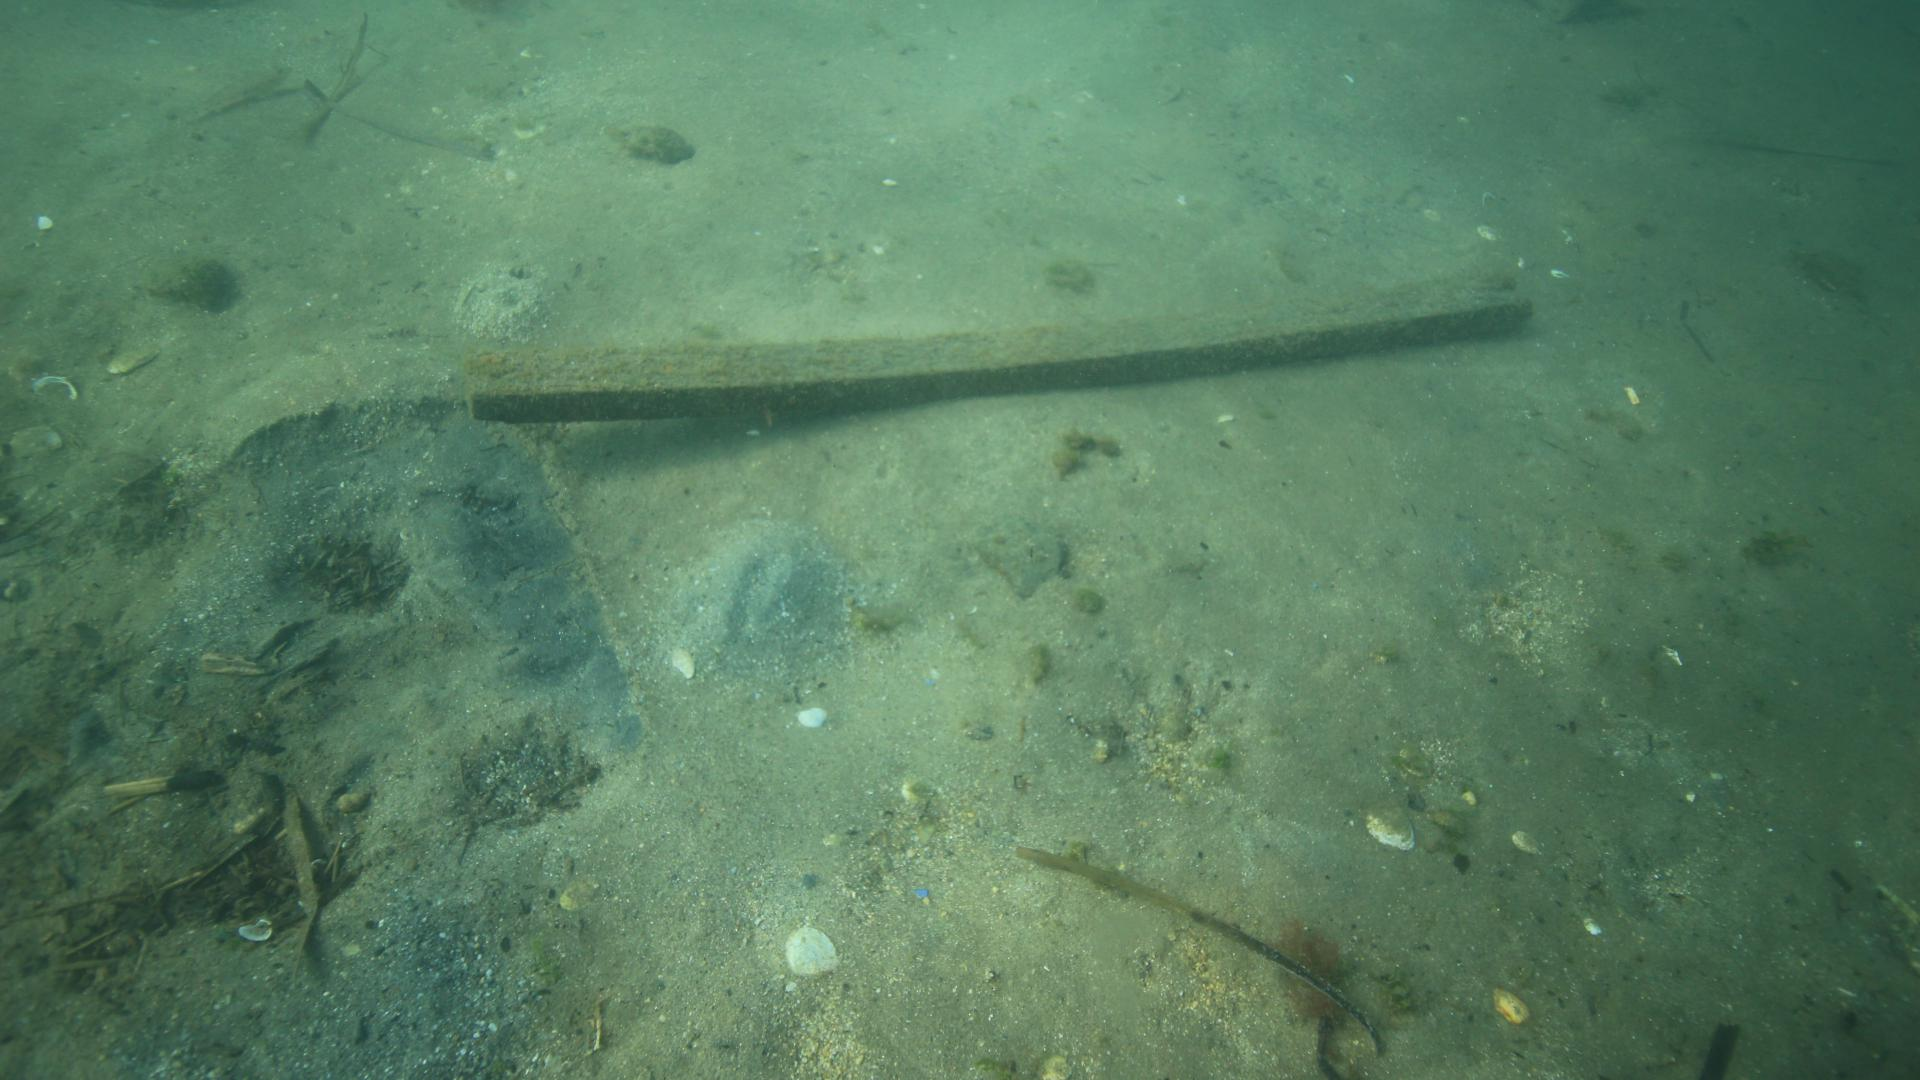wood: (460, 270, 1535, 417)
